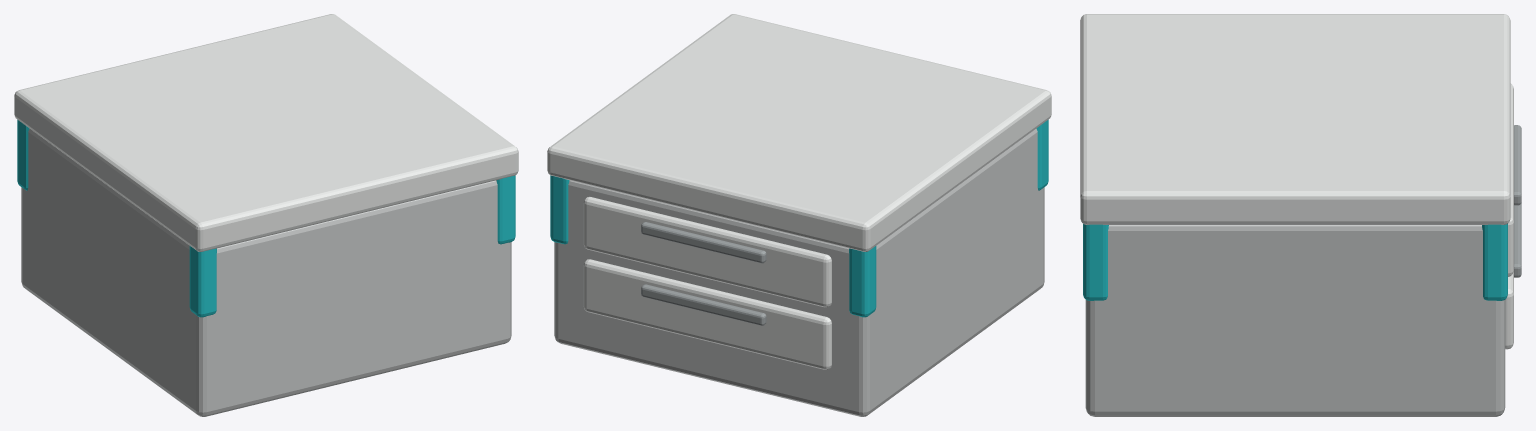
Rendered from Counter.fbx.
The picture shows the model from 3 angles, left to right: view 1: azimuth 30°, elevation 25°; view 2: azimuth 150°, elevation 25°; view 3: azimuth 270°, elevation 25°; orthographic projection. The views are drawn at different scales.
Parts seen in each view (by area): view 1: MAT_Steel Geometry, MAT_SteelLight Geometry.001, MAT_Teal Geometry; view 2: MAT_SteelLight Geometry.001, MAT_Steel Geometry, MAT_Teal Geometry, MAT_SteelDark Geometry; view 3: MAT_SteelLight Geometry.001, MAT_Steel Geometry, MAT_Teal Geometry, MAT_SteelDark Geometry.
Boxes of the visible parts, x1=… form: MAT_Steel Geometry: x1=21, y1=128, x2=511, y2=416; MAT_SteelLight Geometry.001: x1=14, y1=14, x2=518, y2=251; MAT_Teal Geometry: x1=17, y1=119, x2=515, y2=317; MAT_SteelLight Geometry.001: x1=547, y1=14, x2=1051, y2=369; MAT_Steel Geometry: x1=554, y1=128, x2=1044, y2=416; MAT_Teal Geometry: x1=550, y1=119, x2=1048, y2=317; MAT_SteelDark Geometry: x1=641, y1=222, x2=766, y2=325; MAT_SteelLight Geometry.001: x1=1080, y1=14, x2=1513, y2=349; MAT_Steel Geometry: x1=1085, y1=225, x2=1505, y2=416; MAT_Teal Geometry: x1=1083, y1=224, x2=1507, y2=300; MAT_SteelDark Geometry: x1=1514, y1=125, x2=1521, y2=277.
Bounding box in the file's own units: 162 × 95 × 166.
